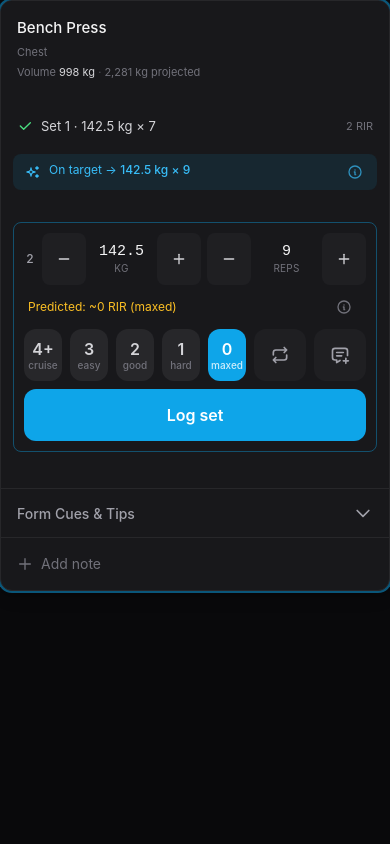
Test case: ExerciseCard › Weight-edit reps recompute (field-edit rules) › AMRAP row: a heavier edit predicts proportionally fewer reps
This screenshot has width=390, height=844.
Click the button with aria-label "Weight: 142.5 kg": [122, 259] box [88,233,155,285]
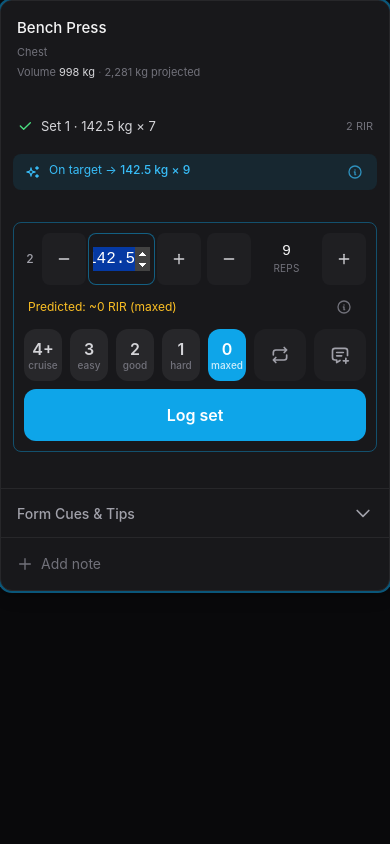
Replace the text in the number field named "Weight" with "150": [122, 259] box [88,233,155,285]
Wait 450 ms
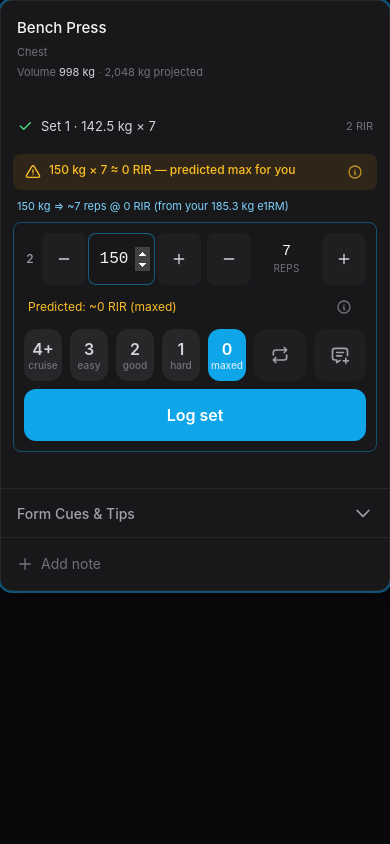
Check: the button with aria-label "Reps: 7 reps" is shown, box [253,233,320,285]
